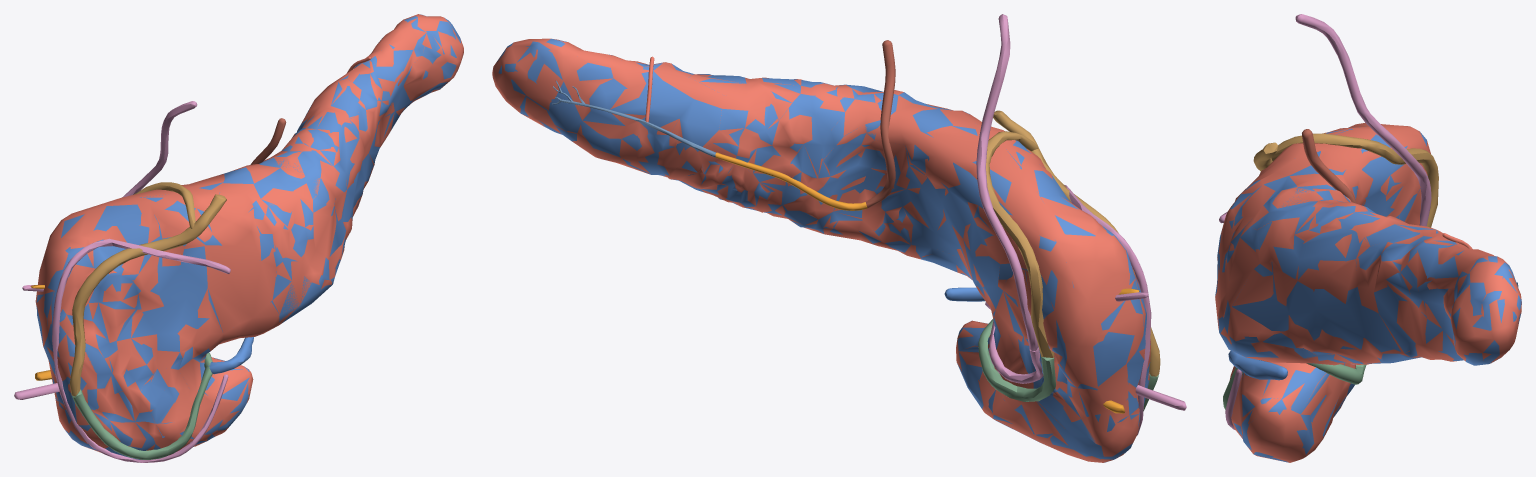
File: pancreas.glb
3 renders of one model, left to right at view 1: azimuth 30°, elevation 25°; view 2: azimuth 150°, elevation 25°; view 3: azimuth 270°, elevation 25°, orthographic. The views are drawn at different scales.
Parts seen in each view (by area): view 1: Pancreas, Parenchyma of pancreas, Pancreaticoduodenal vein (×2), Anterior superior pancreaticoduodenal artery, Anterior inferior pancreaticoduodenal artery, Posterior superior pancreaticoduodenal artery, Inferior pancreaticoduodenal artery, Pancreatic duct tree, Dorsal pancreatic artery; view 2: Pancreas, Parenchyma of pancreas, Pancreaticoduodenal vein (×3), Posterior superior pancreaticoduodenal artery, Posterior inferior pancreaticoduodenal artery, Dorsal pancreatic artery, Anterior superior pancreaticoduodenal artery, Inferior pancreatic artery, Caudal pancreatic artery, Pancreatic duct tree; view 3: Pancreas, Parenchyma of pancreas, Pancreaticoduodenal vein (×2), Posterior superior pancreaticoduodenal artery, Inferior pancreaticoduodenal artery, Dorsal pancreatic artery, Posterior inferior pancreaticoduodenal artery, Anterior superior pancreaticoduodenal artery.
Part boxes in pixels (x1=…): Pancreas: x1=35, y1=14, x2=463, y2=459; Parenchyma of pancreas: x1=36, y1=14, x2=460, y2=459; Pancreaticoduodenal vein (×2): x1=52, y1=101, x2=230, y2=462; Anterior superior pancreaticoduodenal artery: x1=69, y1=194, x2=226, y2=396; Anterior inferior pancreaticoduodenal artery: x1=72, y1=365, x2=212, y2=459; Posterior superior pancreaticoduodenal artery: x1=133, y1=182, x2=195, y2=228; Inferior pancreaticoduodenal artery: x1=208, y1=337, x2=253, y2=374; Pancreatic duct tree: x1=14, y1=285, x2=59, y2=399; Dorsal pancreatic artery: x1=250, y1=118, x2=286, y2=164; Pancreas: x1=492, y1=38, x2=1150, y2=462; Parenchyma of pancreas: x1=497, y1=39, x2=1150, y2=462; Pancreaticoduodenal vein (×3): x1=976, y1=14, x2=1151, y2=435; Posterior superior pancreaticoduodenal artery: x1=986, y1=131, x2=1054, y2=357; Posterior inferior pancreaticoduodenal artery: x1=978, y1=319, x2=1055, y2=401; Dorsal pancreatic artery: x1=866, y1=40, x2=895, y2=207; Anterior superior pancreaticoduodenal artery: x1=993, y1=110, x2=1160, y2=376; Inferior pancreatic artery: x1=715, y1=152, x2=867, y2=210; Caudal pancreatic artery: x1=552, y1=81, x2=715, y2=157; Pancreatic duct tree: x1=1115, y1=292, x2=1186, y2=410; Pancreas: x1=1215, y1=123, x2=1521, y2=462; Parenchyma of pancreas: x1=1215, y1=126, x2=1521, y2=462; Pancreaticoduodenal vein (×2): x1=1219, y1=14, x2=1431, y2=430; Posterior superior pancreaticoduodenal artery: x1=1271, y1=133, x2=1438, y2=227; Inferior pancreaticoduodenal artery: x1=1228, y1=351, x2=1287, y2=380; Dorsal pancreatic artery: x1=1302, y1=129, x2=1356, y2=203; Posterior inferior pancreaticoduodenal artery: x1=1306, y1=363, x2=1366, y2=384; Anterior superior pancreaticoduodenal artery: x1=1253, y1=142, x2=1277, y2=171.
Size of the model in its own units: 2 by 1.29 by 0.7879.
